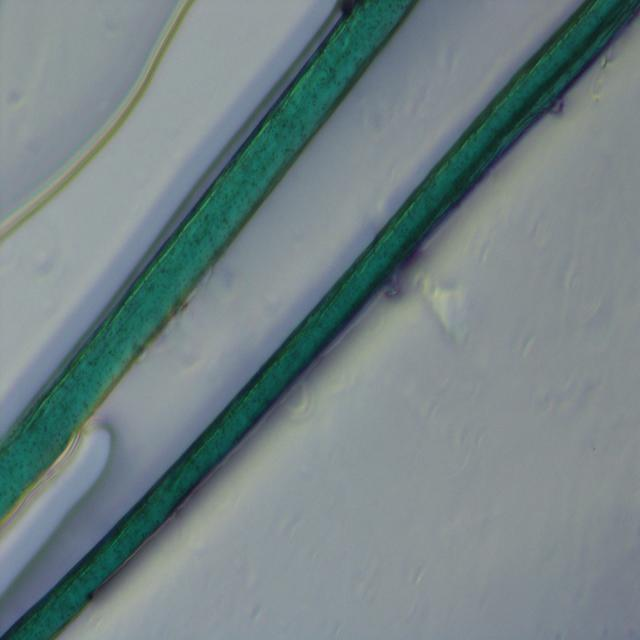Air bubble: (0, 1, 197, 252), (0, 422, 116, 584)
Microfibre: (2, 1, 640, 638), (0, 1, 418, 523)
